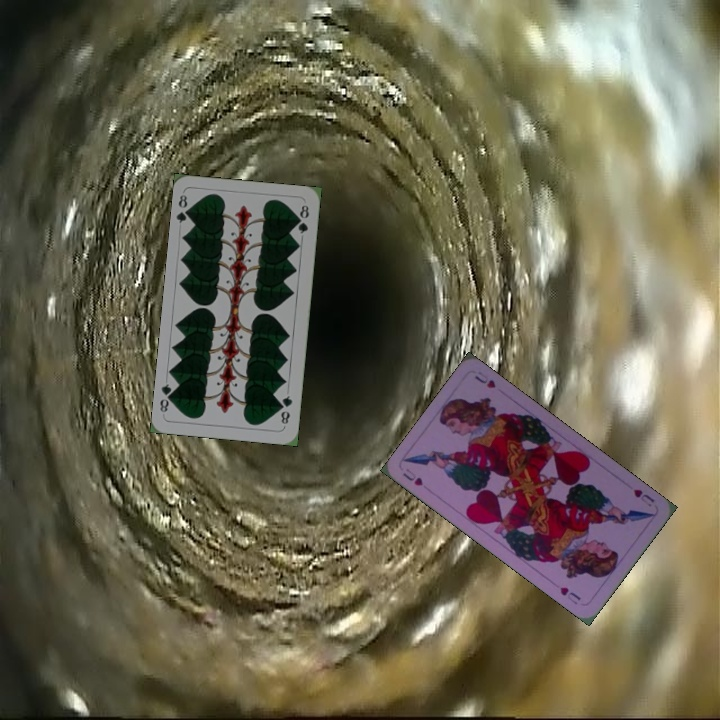G8: (173, 191, 194, 226), (276, 392, 295, 427)
HU: (629, 485, 657, 509), (399, 465, 426, 489)
